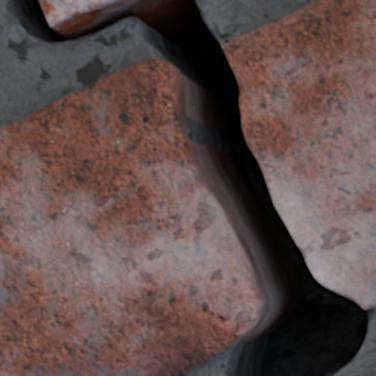brick: (40, 0, 127, 31)
broken_brick: (0, 58, 262, 375), (223, 0, 375, 308)
crack: (2, 0, 373, 375)
